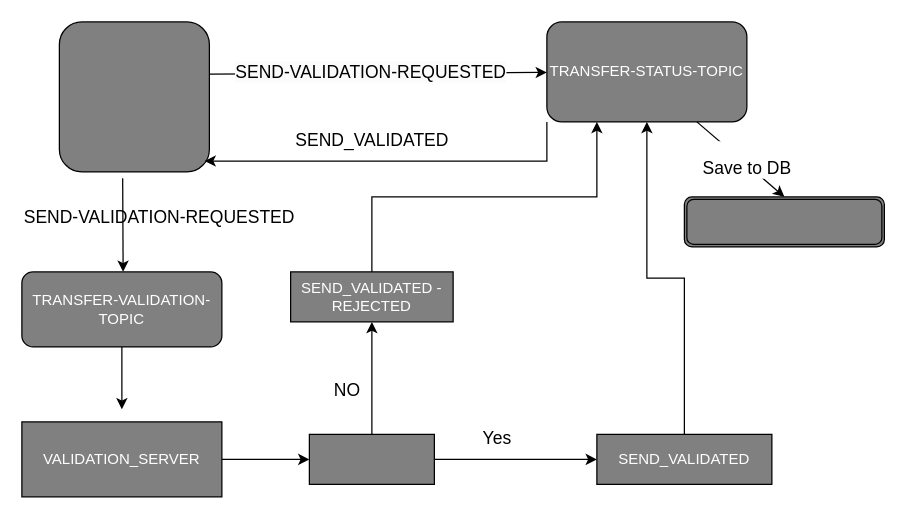
The diagram is 906 pixels wide and 519 high, and some of its shapes have lost their labels. The centre of each missing label's shape, as x and y in pixels:
DMTP_SERVER: the point at 133,96
Is Transfer valid ?: the point at 371,458
TRANSFER_REPOSITORY: the point at 783,221
